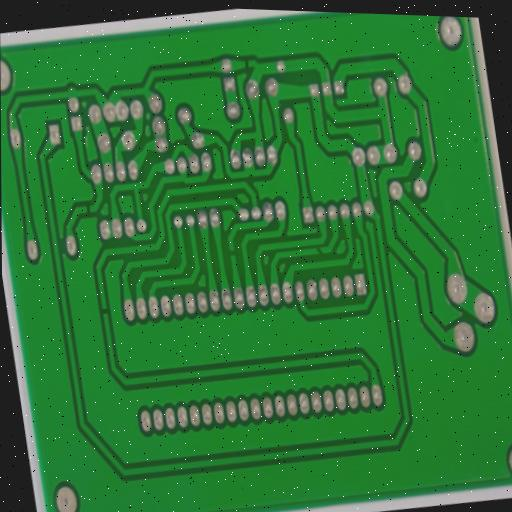open_circuit: (241, 56, 253, 72), (83, 202, 94, 217), (227, 247, 238, 260), (100, 305, 110, 318), (315, 245, 325, 258)
